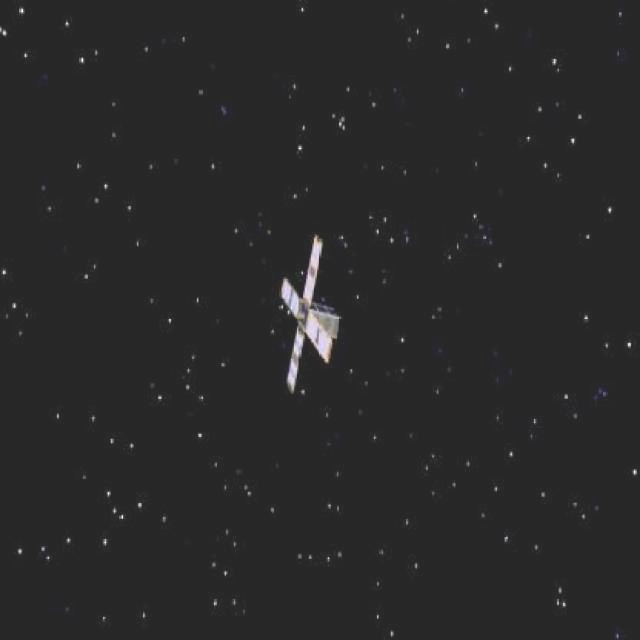medium_debris: (271, 226, 342, 394)
